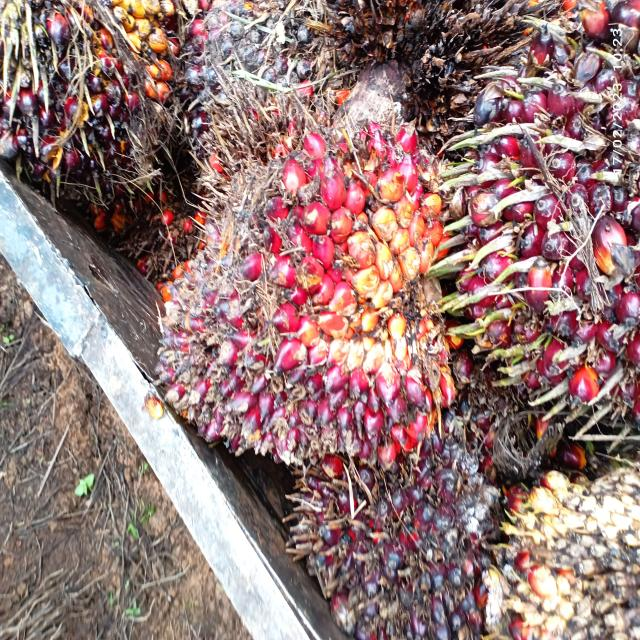fraksi 1: (158, 96, 460, 506), (460, 27, 640, 470), (287, 357, 495, 640)
